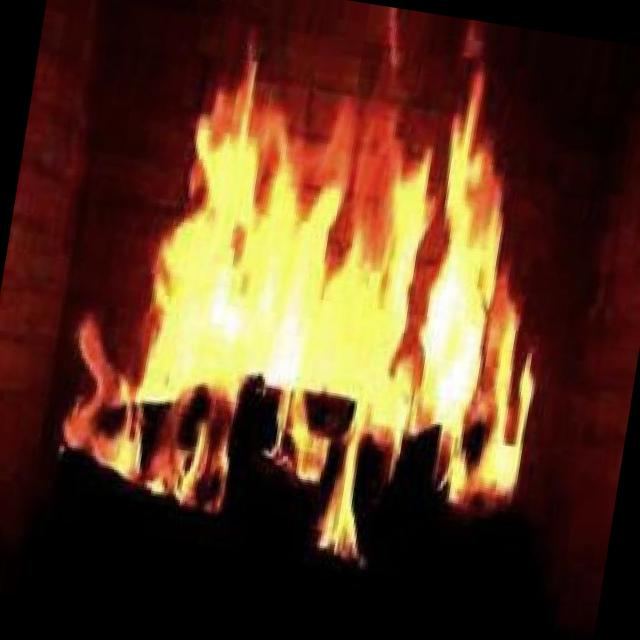Smoke: (38, 0, 597, 597)
